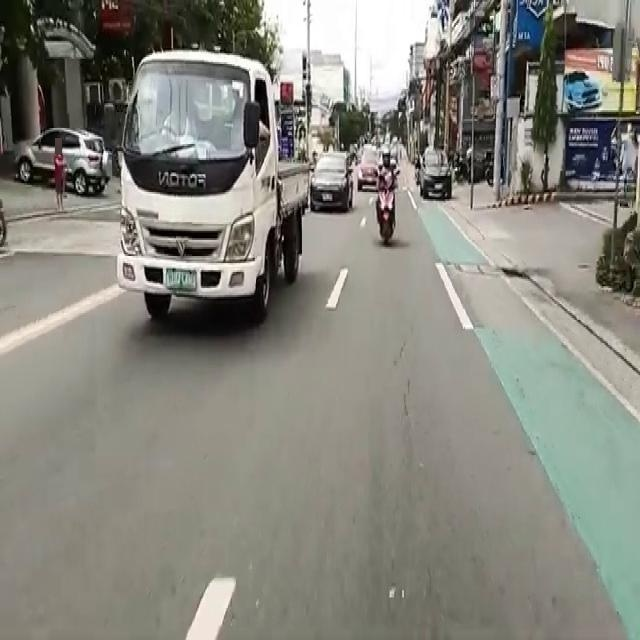car: (16, 125, 104, 187), (313, 150, 351, 213), (421, 154, 457, 197)
motorcycle: (370, 150, 397, 252)
truck: (120, 40, 306, 340)
